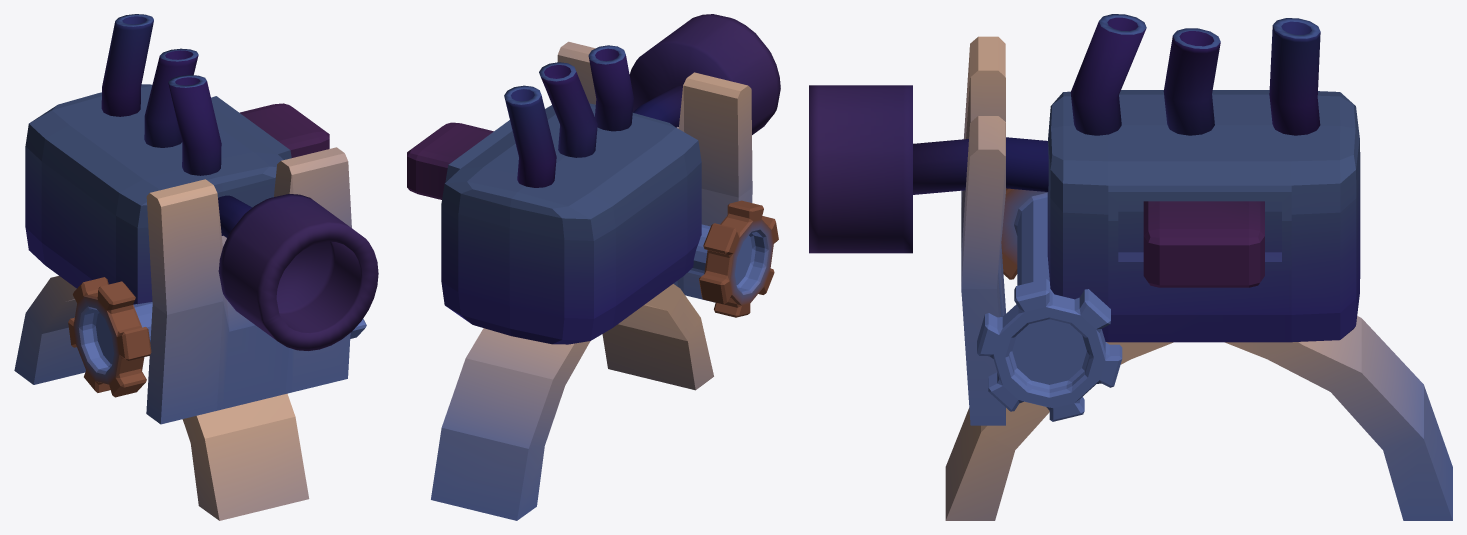
File: АВТОМАТ 3.fbx
3 views of the same model, side by side, from view 1: azimuth 30°, elevation 25°; view 2: azimuth 150°, elevation 25°; view 3: azimuth 270°, elevation 25° (orthographic). The views are drawn at different scales.
Parts seen in each view (by area): view 1: Cube, Cube.002, Cylinder, Cube.003, Cylinder.004, Cylinder.003, Cylinder.001, Cylinder.002, Cube.001; view 2: Cube, Cube.003, Cylinder, Cube.002, Cylinder.004, Cylinder.003, Cylinder.002, Cube.001, Cylinder.001; view 3: Cube, Cube.003, Cylinder, Cylinder.004, Cube.002, Cube.001, Cylinder.001, Cylinder.003, Cylinder.002.
Boxes of the visible parts, left/top/right/bottom form: Cube: left=25, top=84, right=291, bottom=304; Cube.002: left=146, top=147, right=351, bottom=424; Cylinder: left=218, top=194, right=378, bottom=350; Cube.003: left=14, top=276, right=309, bottom=520; Cylinder.004: left=68, top=277, right=366, bottom=397; Cylinder.003: left=101, top=14, right=153, bottom=116; Cylinder.001: left=168, top=75, right=221, bottom=175; Cylinder.002: left=144, top=48, right=198, bottom=147; Cube.001: left=239, top=103, right=329, bottom=157; Cube: left=441, top=103, right=701, bottom=344; Cube.003: left=431, top=284, right=713, bottom=520; Cylinder: left=629, top=14, right=780, bottom=134; Cube.002: left=557, top=41, right=752, bottom=302; Cylinder.004: left=688, top=200, right=778, bottom=317; Cylinder.003: left=504, top=85, right=556, bottom=187; Cylinder.002: left=539, top=62, right=597, bottom=157; Cube.001: left=407, top=122, right=493, bottom=199; Cylinder.001: left=588, top=45, right=633, bottom=131; Cube: left=1047, top=90, right=1360, bottom=342; Cube.003: left=945, top=316, right=1452, bottom=520; Cylinder: left=809, top=85, right=1048, bottom=253; Cylinder.004: left=977, top=188, right=1122, bottom=421; Cube.002: left=961, top=36, right=1005, bottom=425; Cube.001: left=1143, top=201, right=1264, bottom=287; Cylinder.001: left=1070, top=14, right=1146, bottom=135; Cylinder.003: left=1269, top=18, right=1320, bottom=135; Cylinder.002: left=1163, top=28, right=1220, bottom=135.
Size of the model in its own units: 555 by 734 by 901.
